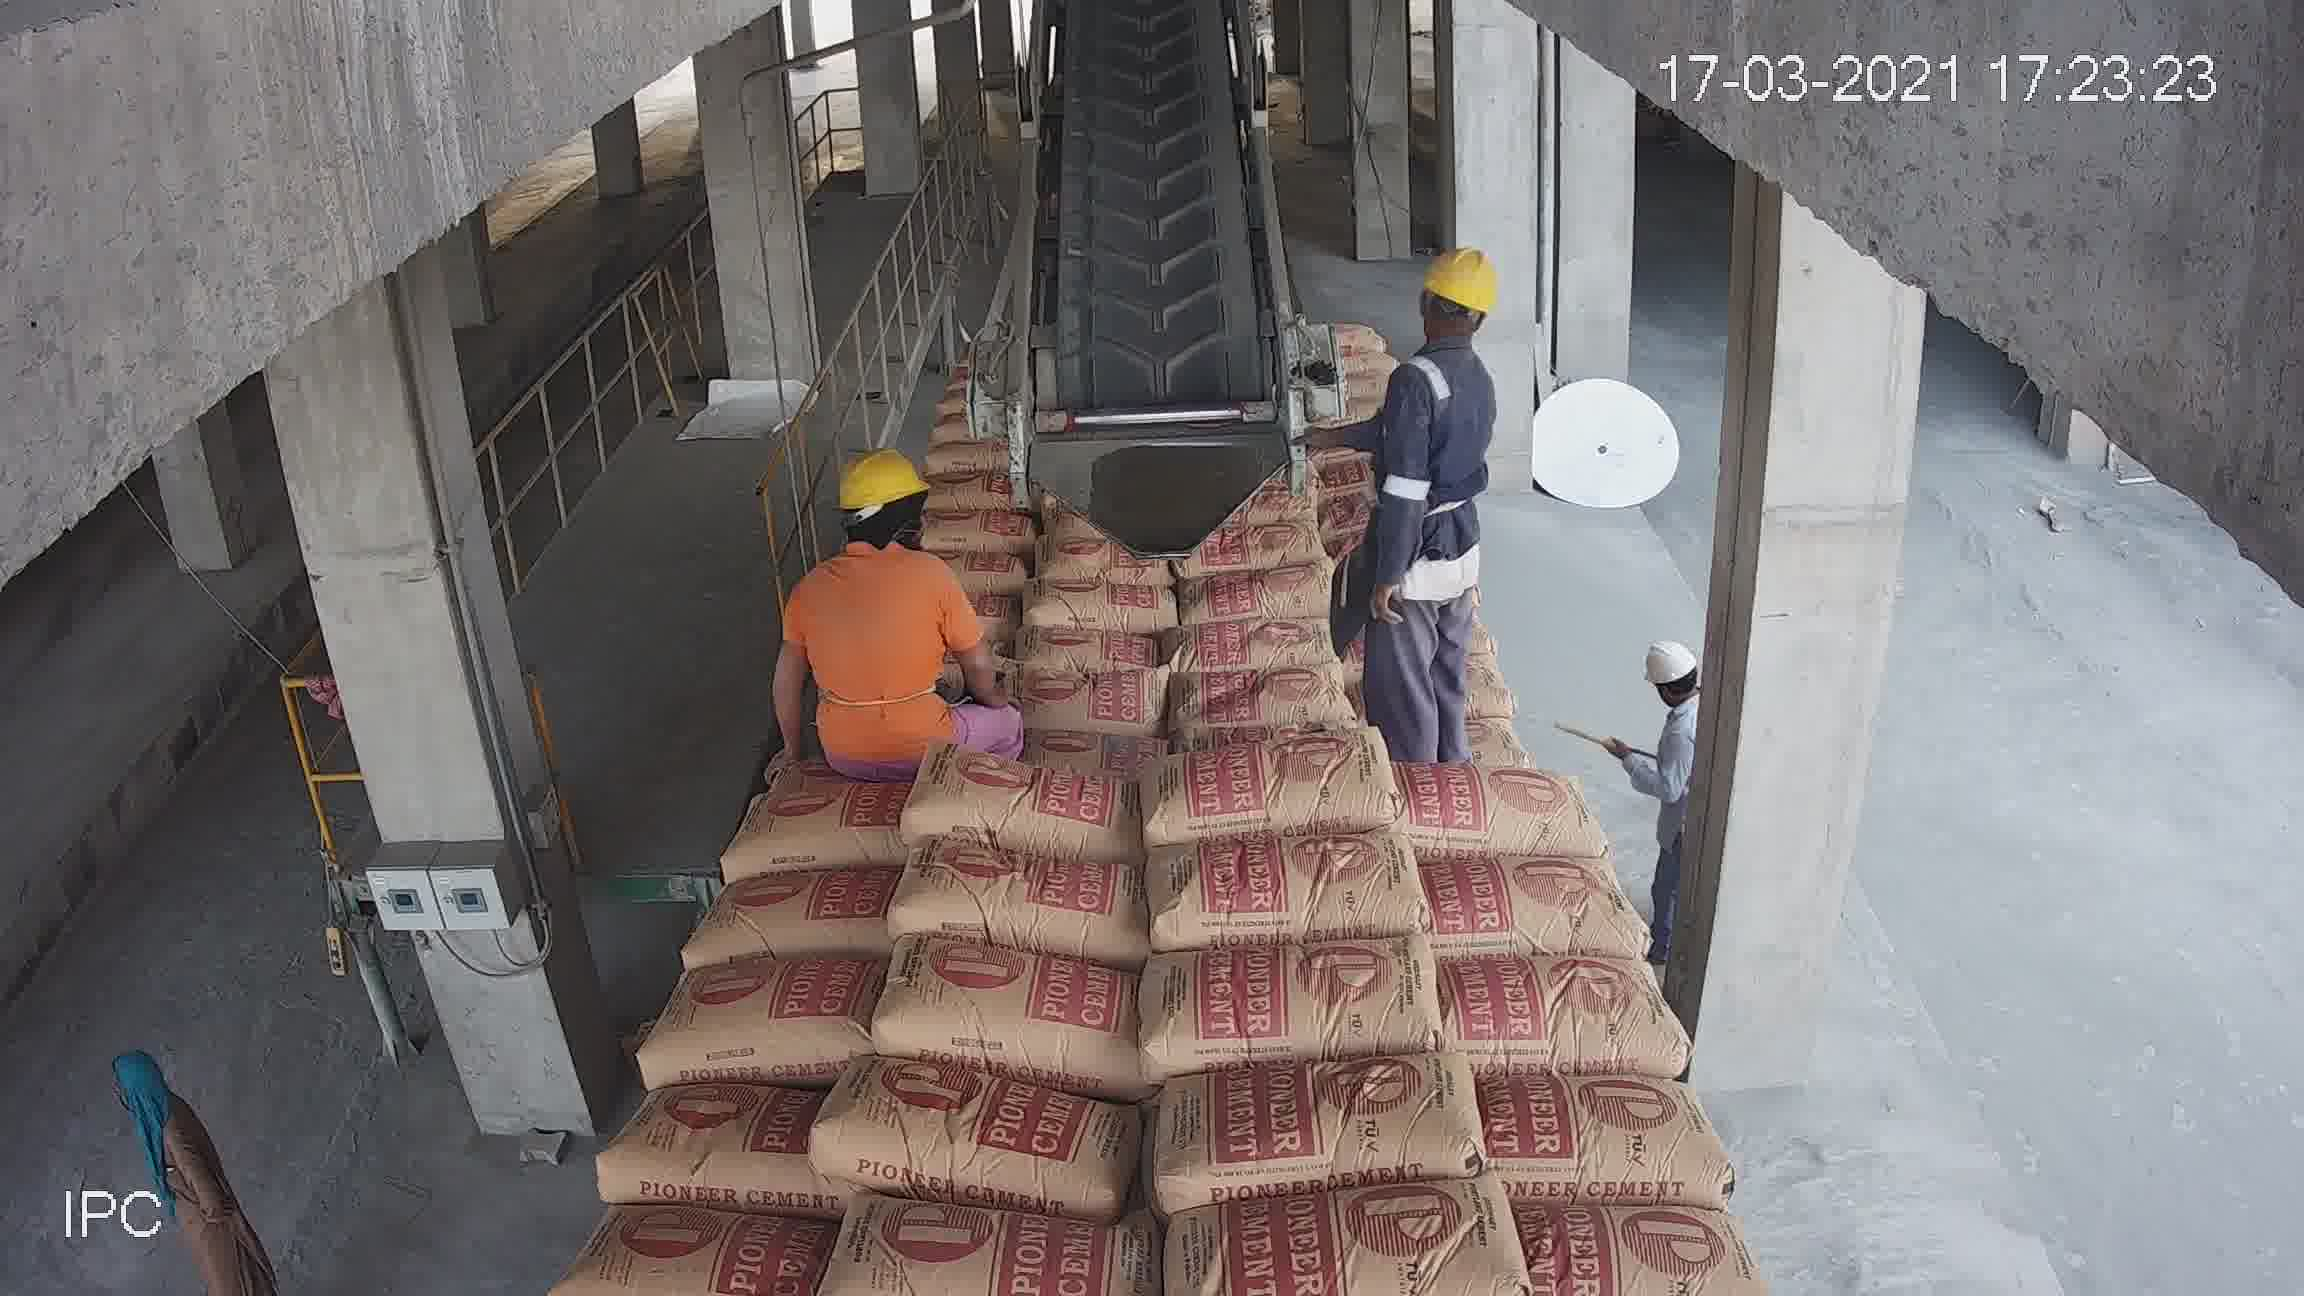bag: (989, 361, 1157, 483)
bag_h: (1143, 1051, 1492, 1223), (1138, 1165, 1502, 1291), (813, 1048, 1125, 1195), (855, 946, 1128, 1073), (1147, 929, 1424, 1052), (1152, 821, 1426, 935), (1440, 932, 1662, 1068), (805, 1196, 1165, 1280), (880, 840, 1157, 942), (636, 956, 875, 1070), (676, 855, 919, 964), (1143, 658, 1381, 769), (1499, 1071, 1698, 1201), (1166, 725, 1408, 828), (1434, 847, 1666, 948), (1169, 562, 1380, 666), (592, 1203, 831, 1293), (1400, 763, 1600, 861), (728, 783, 929, 877), (620, 1086, 809, 1184), (1508, 1211, 1723, 1296), (919, 774, 1154, 850), (752, 706, 937, 791), (1143, 536, 1358, 608), (1385, 687, 1554, 777), (976, 623, 1180, 696), (785, 631, 956, 715), (815, 562, 983, 646), (1383, 620, 1549, 703), (1359, 552, 1519, 631), (953, 699, 1144, 753), (980, 570, 1150, 622), (885, 521, 983, 587), (1351, 524, 1468, 571), (1364, 484, 1475, 525), (1362, 445, 1429, 498), (896, 505, 968, 544), (911, 473, 968, 506)
belt: (1051, 13, 1252, 370)
